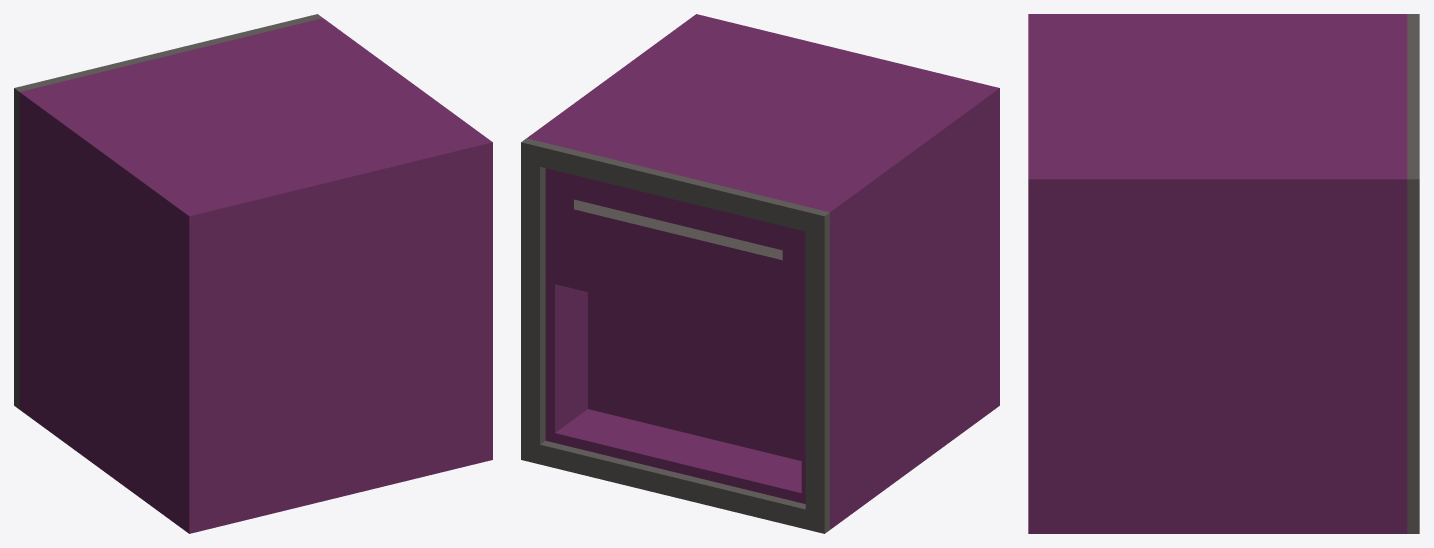
File: hhhh.obj
3 views of the same model, side by side, from view 1: azimuth 30°, elevation 25°; view 2: azimuth 150°, elevation 25°; view 3: azimuth 270°, elevation 25° (orthographic). The views are drawn at different scales.
Visible parts, largest first — view 1: hhhh; view 2: hhhh; view 3: hhhh.
Boxes of the visible parts, bbox=[...] form: hhhh: bbox=[14, 14, 492, 533]; hhhh: bbox=[521, 14, 999, 533]; hhhh: bbox=[1028, 14, 1419, 533].
Size of the model in its own units: 3.2 by 3.2 by 3.2.
Materials: 1 (1 with a texture image).
